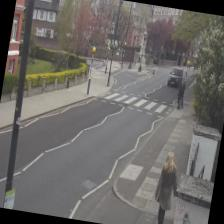person: (148, 149, 182, 224)
